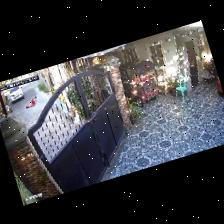person: (26, 96, 37, 107)
